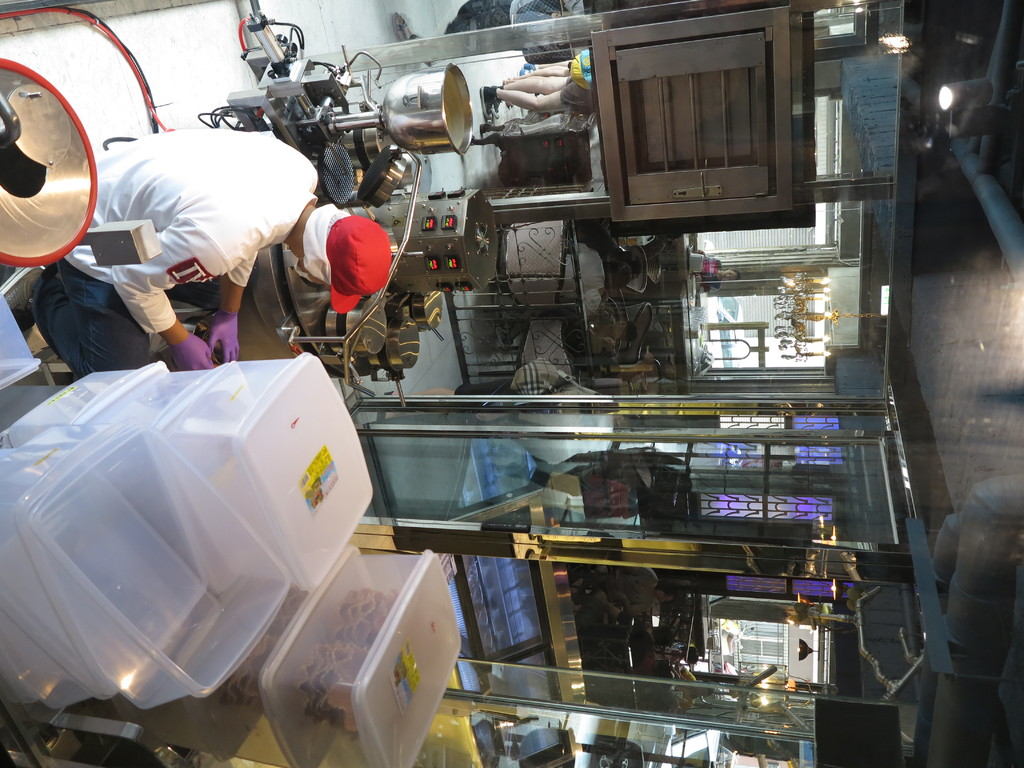Person: (0, 0, 716, 717)
